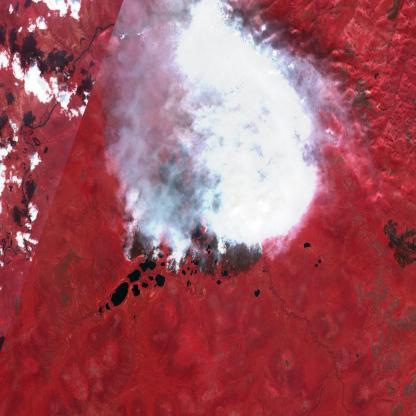fire: (119, 136, 267, 280)
